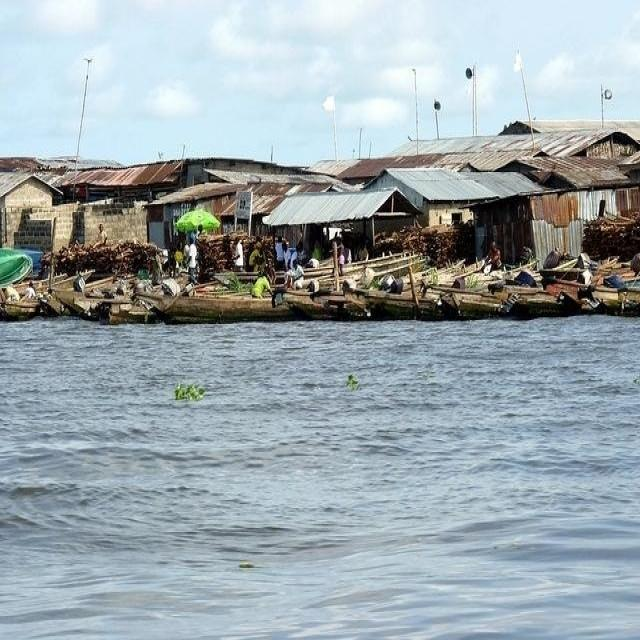Hyacinth: (168, 378, 214, 403), (333, 373, 372, 394)
